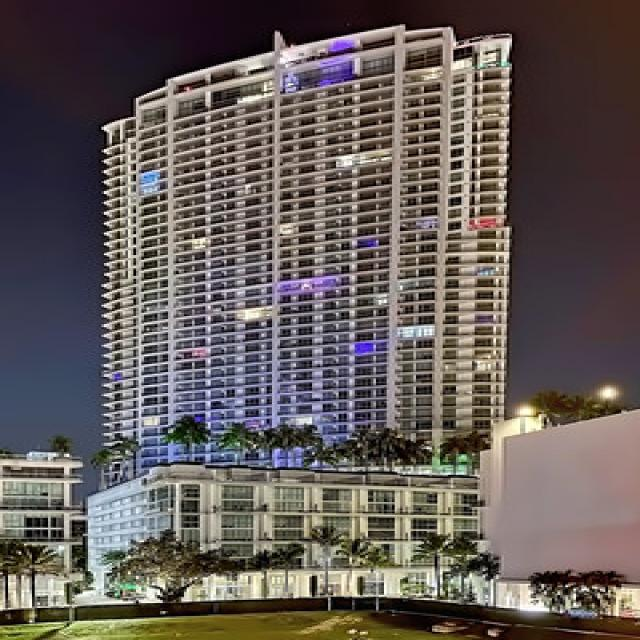Normal_building: (60, 21, 524, 608)
